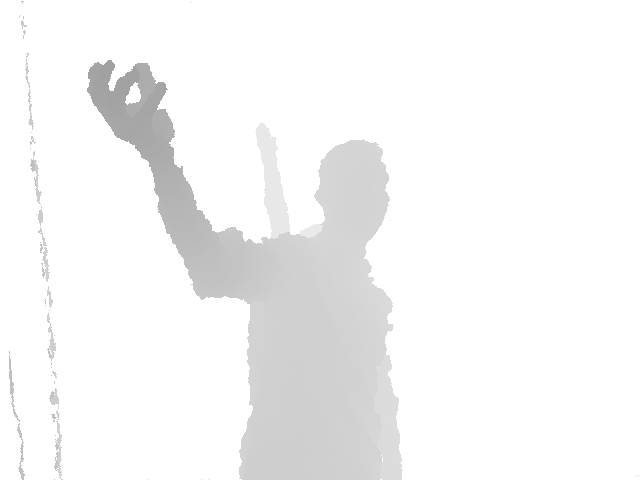hand: (87, 59, 177, 148), (254, 121, 278, 155)
head: (314, 140, 391, 244)
person: (87, 58, 404, 479), (254, 121, 327, 242)
